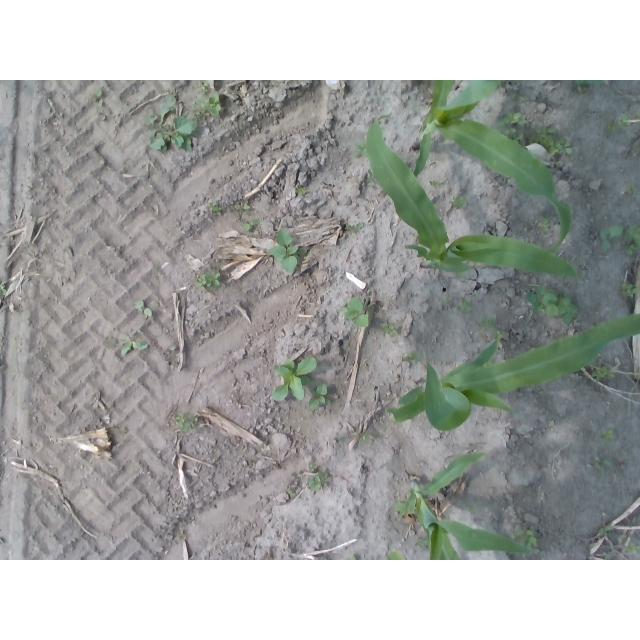Maize: (364, 112, 583, 284), (383, 311, 640, 433), (408, 80, 572, 252), (385, 452, 541, 561)
Weeds: (142, 93, 198, 152), (268, 355, 317, 403), (527, 285, 580, 326), (268, 229, 309, 276), (530, 125, 573, 156), (497, 110, 529, 146), (340, 297, 373, 327), (190, 93, 222, 118), (118, 333, 150, 356), (599, 225, 622, 252), (194, 270, 222, 291), (513, 528, 540, 549), (444, 295, 472, 315), (173, 412, 199, 433), (606, 114, 631, 135), (307, 471, 330, 493), (624, 225, 640, 256), (310, 383, 329, 407), (569, 80, 603, 93), (591, 366, 616, 382), (134, 299, 152, 317), (477, 317, 496, 334), (352, 142, 369, 159), (381, 323, 400, 338), (448, 195, 468, 209), (240, 218, 260, 231), (620, 285, 637, 300), (401, 351, 419, 365), (594, 458, 610, 473), (234, 202, 251, 215), (209, 201, 223, 216), (538, 218, 550, 235), (93, 88, 104, 106), (345, 222, 364, 232), (602, 429, 615, 443), (196, 80, 210, 92), (598, 525, 613, 536), (360, 433, 374, 444), (511, 93, 525, 104), (416, 538, 428, 550), (626, 185, 639, 196), (294, 185, 307, 195), (429, 180, 444, 188), (630, 542, 639, 555), (288, 489, 298, 499), (307, 464, 317, 473), (0, 282, 6, 297), (466, 502, 474, 510), (348, 554, 357, 560), (634, 146, 640, 154), (634, 112, 640, 120)
